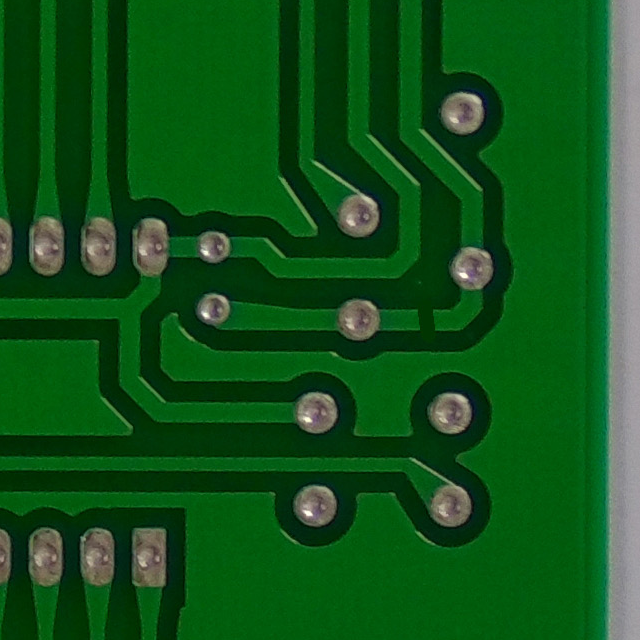open_circuit: (400, 292, 449, 348)
